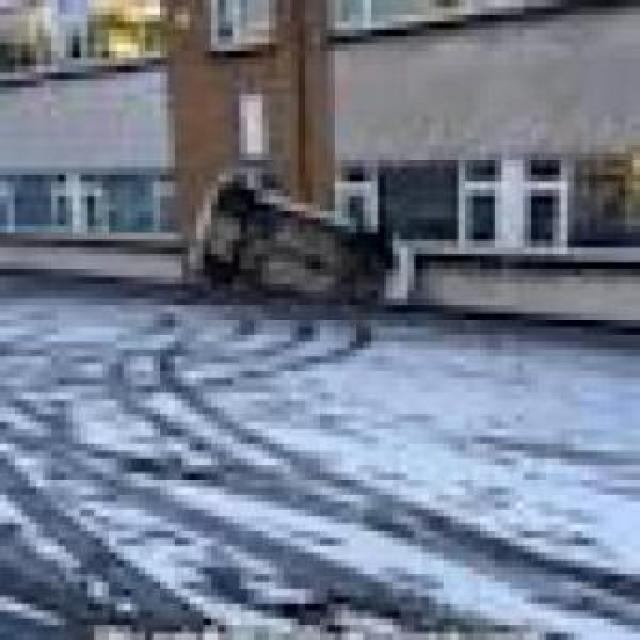ice-road: (0, 276, 640, 638)
